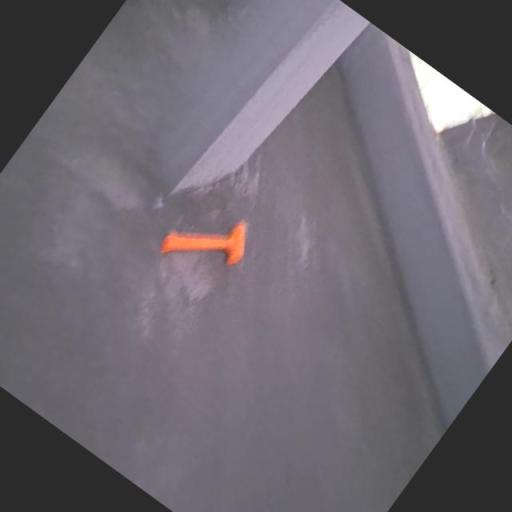mallet: (163, 186, 262, 284)
